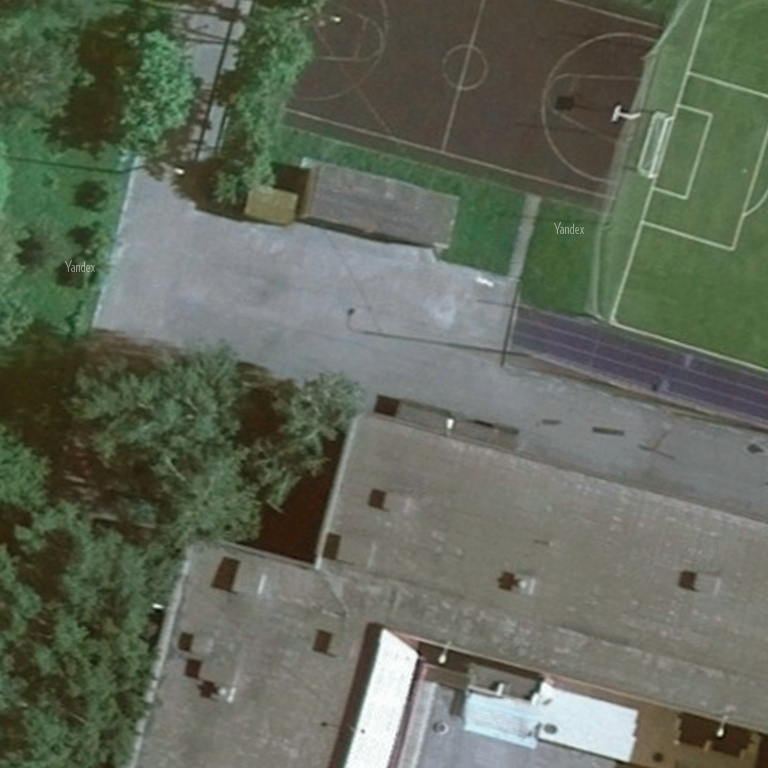basket_court: (271, 1, 677, 233)
